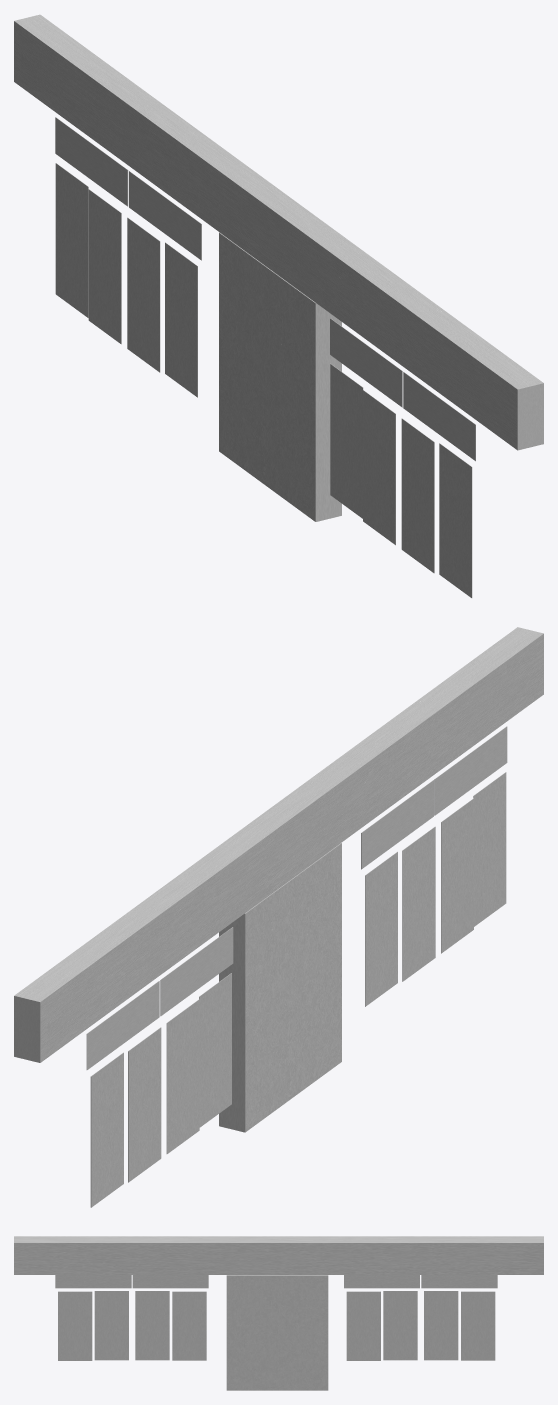
File: doujou_wall_right.obj
3 views of the same model, one above another, from view 1: azimuth 30°, elevation 25°; view 2: azimuth 150°, elevation 25°; view 3: azimuth 270°, elevation 25° (orthographic). The views are drawn at different scales.
Visible parts, largest first — view 1: 立方体.003; view 2: 立方体.003; view 3: 立方体.003.
Boxes of the visible parts, x1=… form: 立方体.003: x1=14, y1=14, x2=543, y2=597; 立方体.003: x1=14, y1=627, x2=543, y2=1207; 立方体.003: x1=14, y1=1236, x2=543, y2=1390.
Size of the model in its own units: 20.8 by 169 by 549.
1 material, 1 textured.
